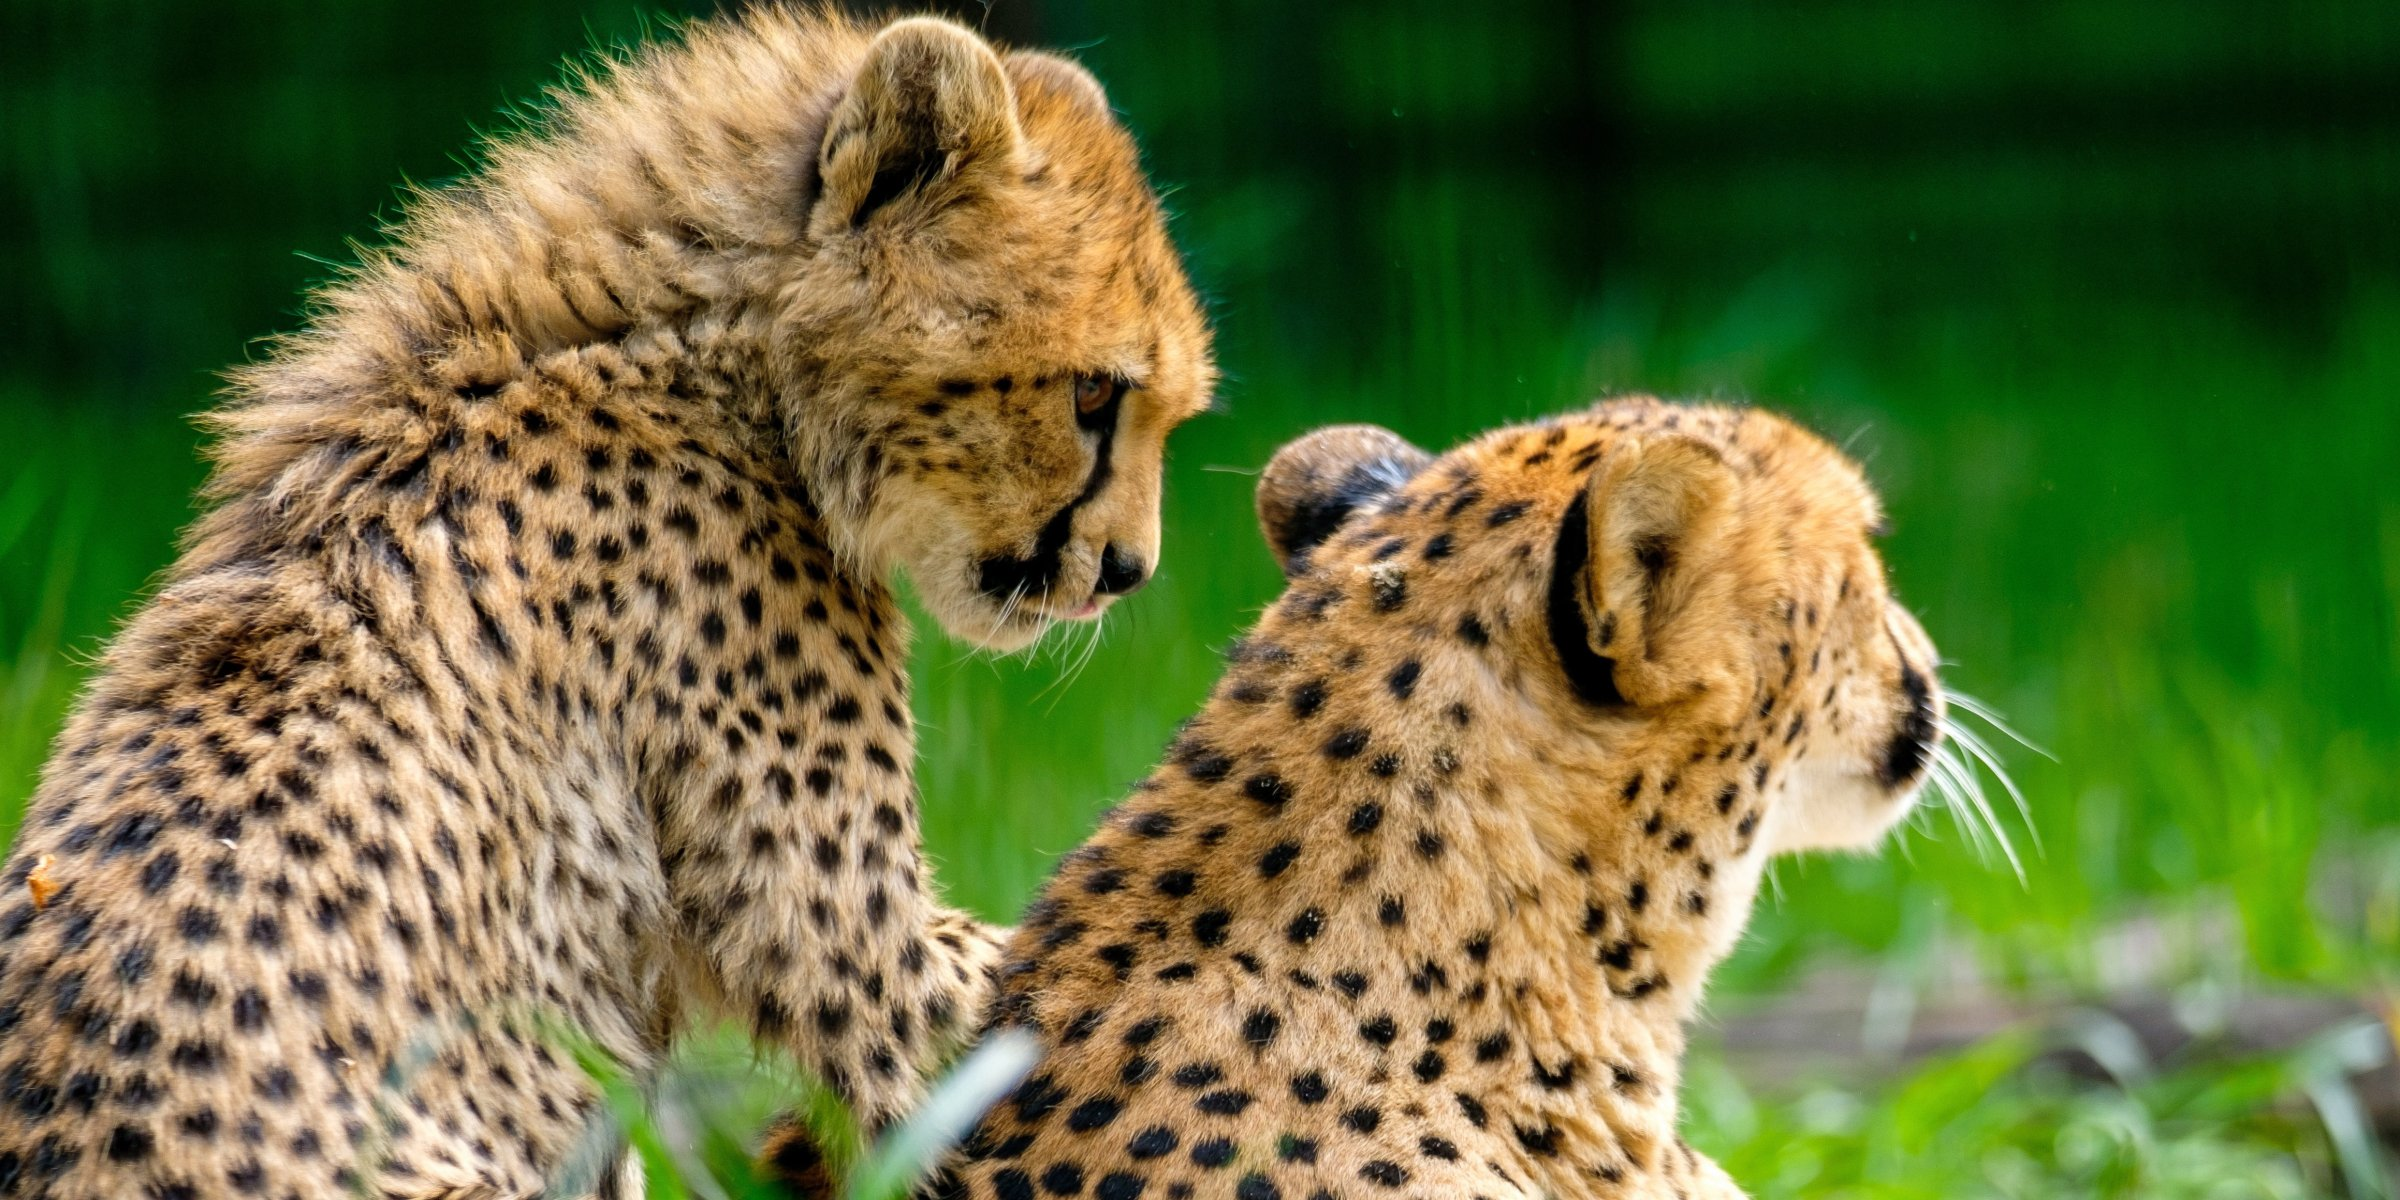cheetah: (787, 8, 1231, 675)
